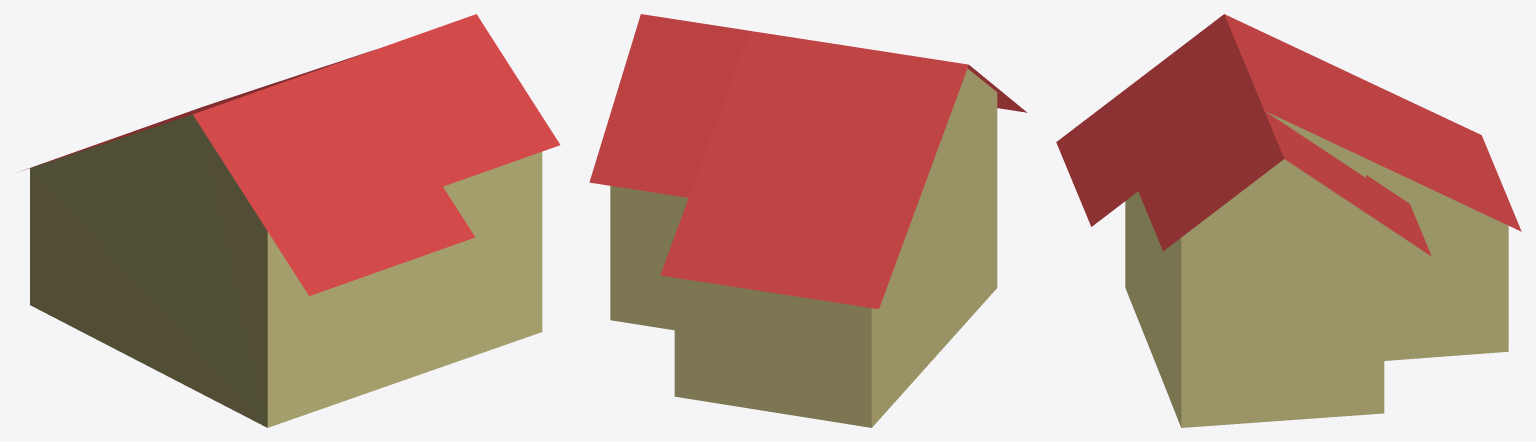
3 renders of one model, left to right at view 1: azimuth 30°, elevation 25°; view 2: azimuth 150°, elevation 25°; view 3: azimuth 270°, elevation 25°, orthographic. The views are drawn at different scales.
Bounding box in the file's own units: 19.2 × 21.83 × 13.66.
